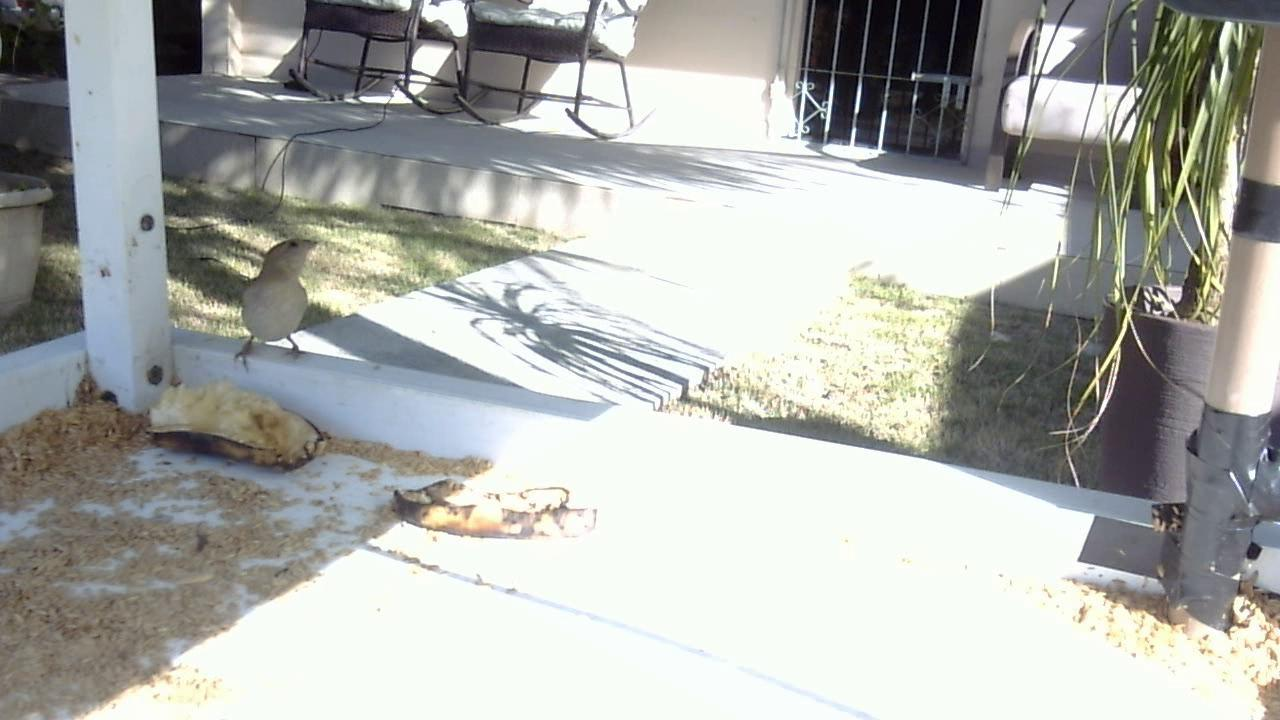canario_do_amazonas: (222, 236, 335, 371)
